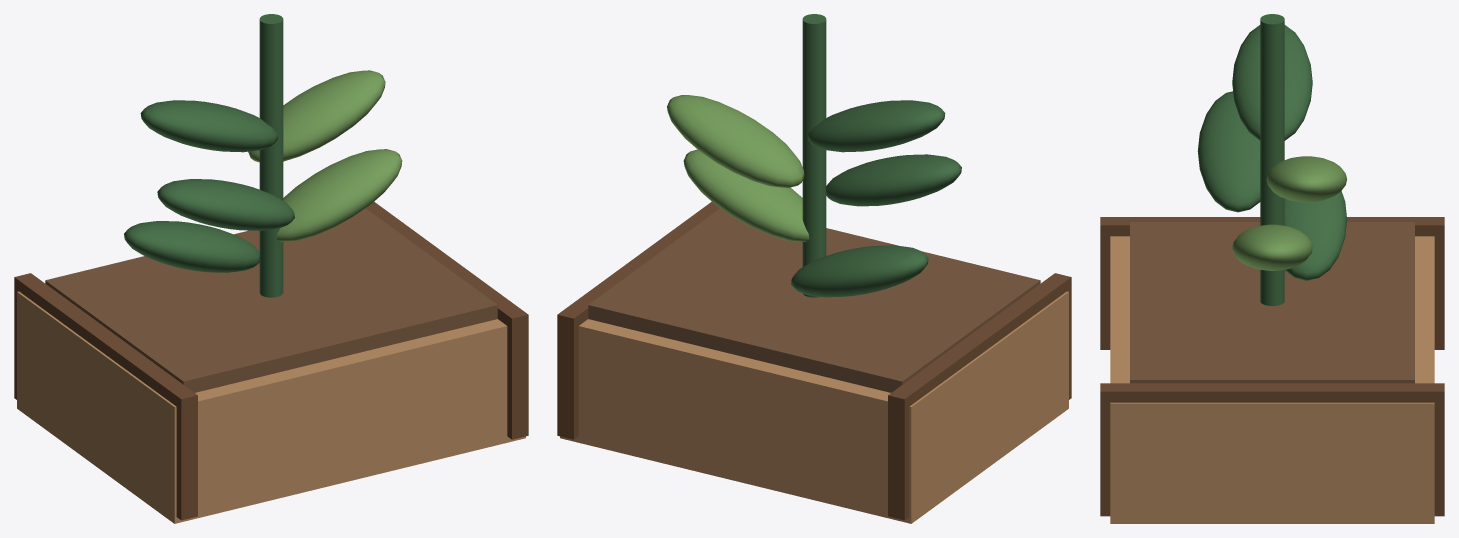
The model's file is plant-mint.glb.
3 renders of one model, left to right at view 1: azimuth 30°, elevation 25°; view 2: azimuth 150°, elevation 25°; view 3: azimuth 270°, elevation 25°, orthographic. The views are drawn at different scales.
Parts seen in each view (by area): view 1: wood box, soil box, leaf sphere (×3), trim box (×2), lightLeaf sphere (×2), leaf cylinder; view 2: wood box, soil box, leaf sphere (×3), trim box (×2), lightLeaf sphere (×2), leaf cylinder; view 3: wood box, soil box, leaf sphere (×3), trim box (×2), lightLeaf sphere (×2), leaf cylinder.
Boxes of the visible parts, <box> form: wood box: <box>17,291,525,523</box>; soil box: <box>45,208,497,392</box>; leaf sphere (×3): <box>124,100,294,272</box>; trim box (×2): <box>14,202,528,520</box>; lightLeaf sphere (×2): <box>248,70,402,242</box>; leaf cylinder: <box>259,14,283,297</box>; wood box: <box>560,291,1068,523</box>; soil box: <box>588,208,1040,392</box>; leaf sphere (×3): <box>791,100,961,297</box>; trim box (×2): <box>557,202,1071,520</box>; lightLeaf sphere (×2): <box>667,95,809,242</box>; leaf cylinder: <box>802,14,826,297</box>; wood box: <box>1110,236,1434,523</box>; soil box: <box>1130,222,1414,383</box>; leaf sphere (×3): <box>1197,25,1347,280</box>; trim box (×2): <box>1100,217,1444,516</box>; lightLeaf sphere (×2): <box>1232,156,1346,270</box>; leaf cylinder: <box>1260,14,1284,305</box>.
Size of the model in its own units: 0.85 by 0.935 by 0.7.
